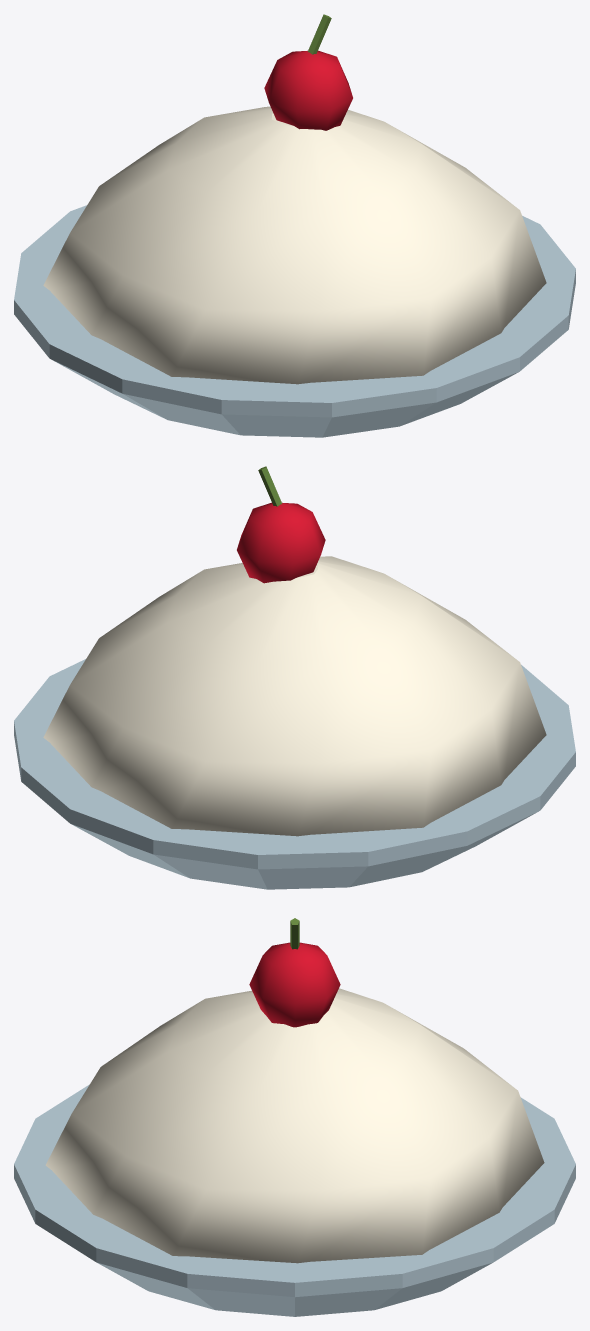
Rendered from pie.glb.
3 views of the same model, one above another, from view 1: azimuth 30°, elevation 25°; view 2: azimuth 150°, elevation 25°; view 3: azimuth 270°, elevation 25° (orthographic).
Visible parts, largest first — view 1: cream_dome, pie_dish, Cherry; view 2: cream_dome, pie_dish, Cherry; view 3: cream_dome, pie_dish, Cherry.
Boxes of the visible parts, left/top/right/bottom form: cream_dome: left=43, top=106, right=546, bottom=384; pie_dish: left=14, top=205, right=575, bottom=437; Cherry: left=264, top=50, right=352, bottom=130; cream_dome: left=43, top=556, right=546, bottom=836; pie_dish: left=14, top=659, right=575, bottom=889; Cherry: left=237, top=502, right=325, bottom=583; cream_dome: left=45, top=988, right=544, bottom=1263; pie_dish: left=14, top=1084, right=575, bottom=1316; Cherry: left=249, top=942, right=340, bottom=1027.
Size of the model in its own units: 1.6 by 1.02 by 1.6.
